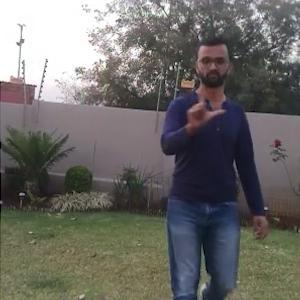land_hand: (185, 77, 226, 125)
